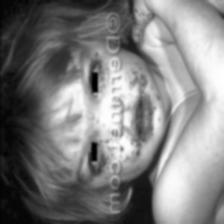Toxin: (130, 67, 148, 90), (96, 138, 106, 174)
